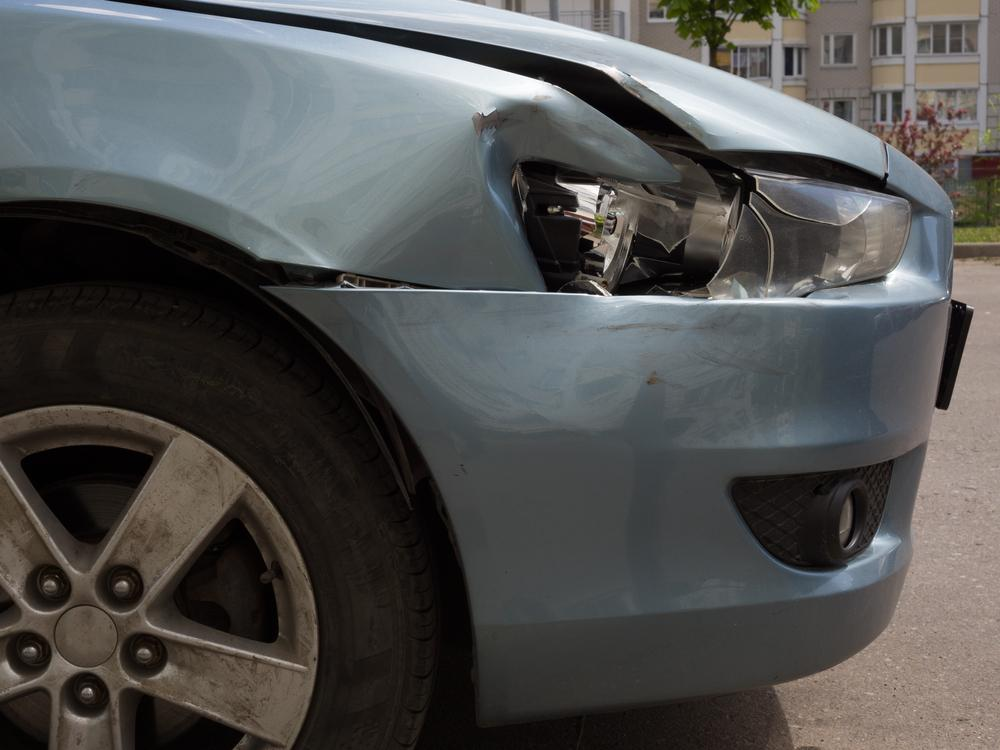dent: (372, 101, 627, 291)
lamp broken: (511, 143, 915, 297)
